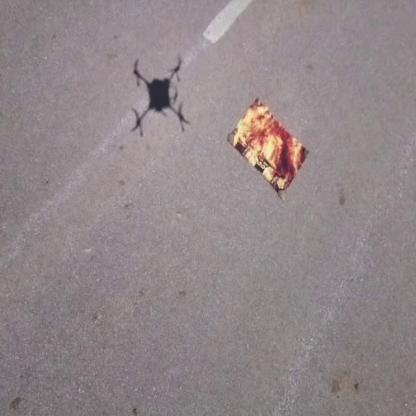fire-poster: (226, 96, 310, 200)
